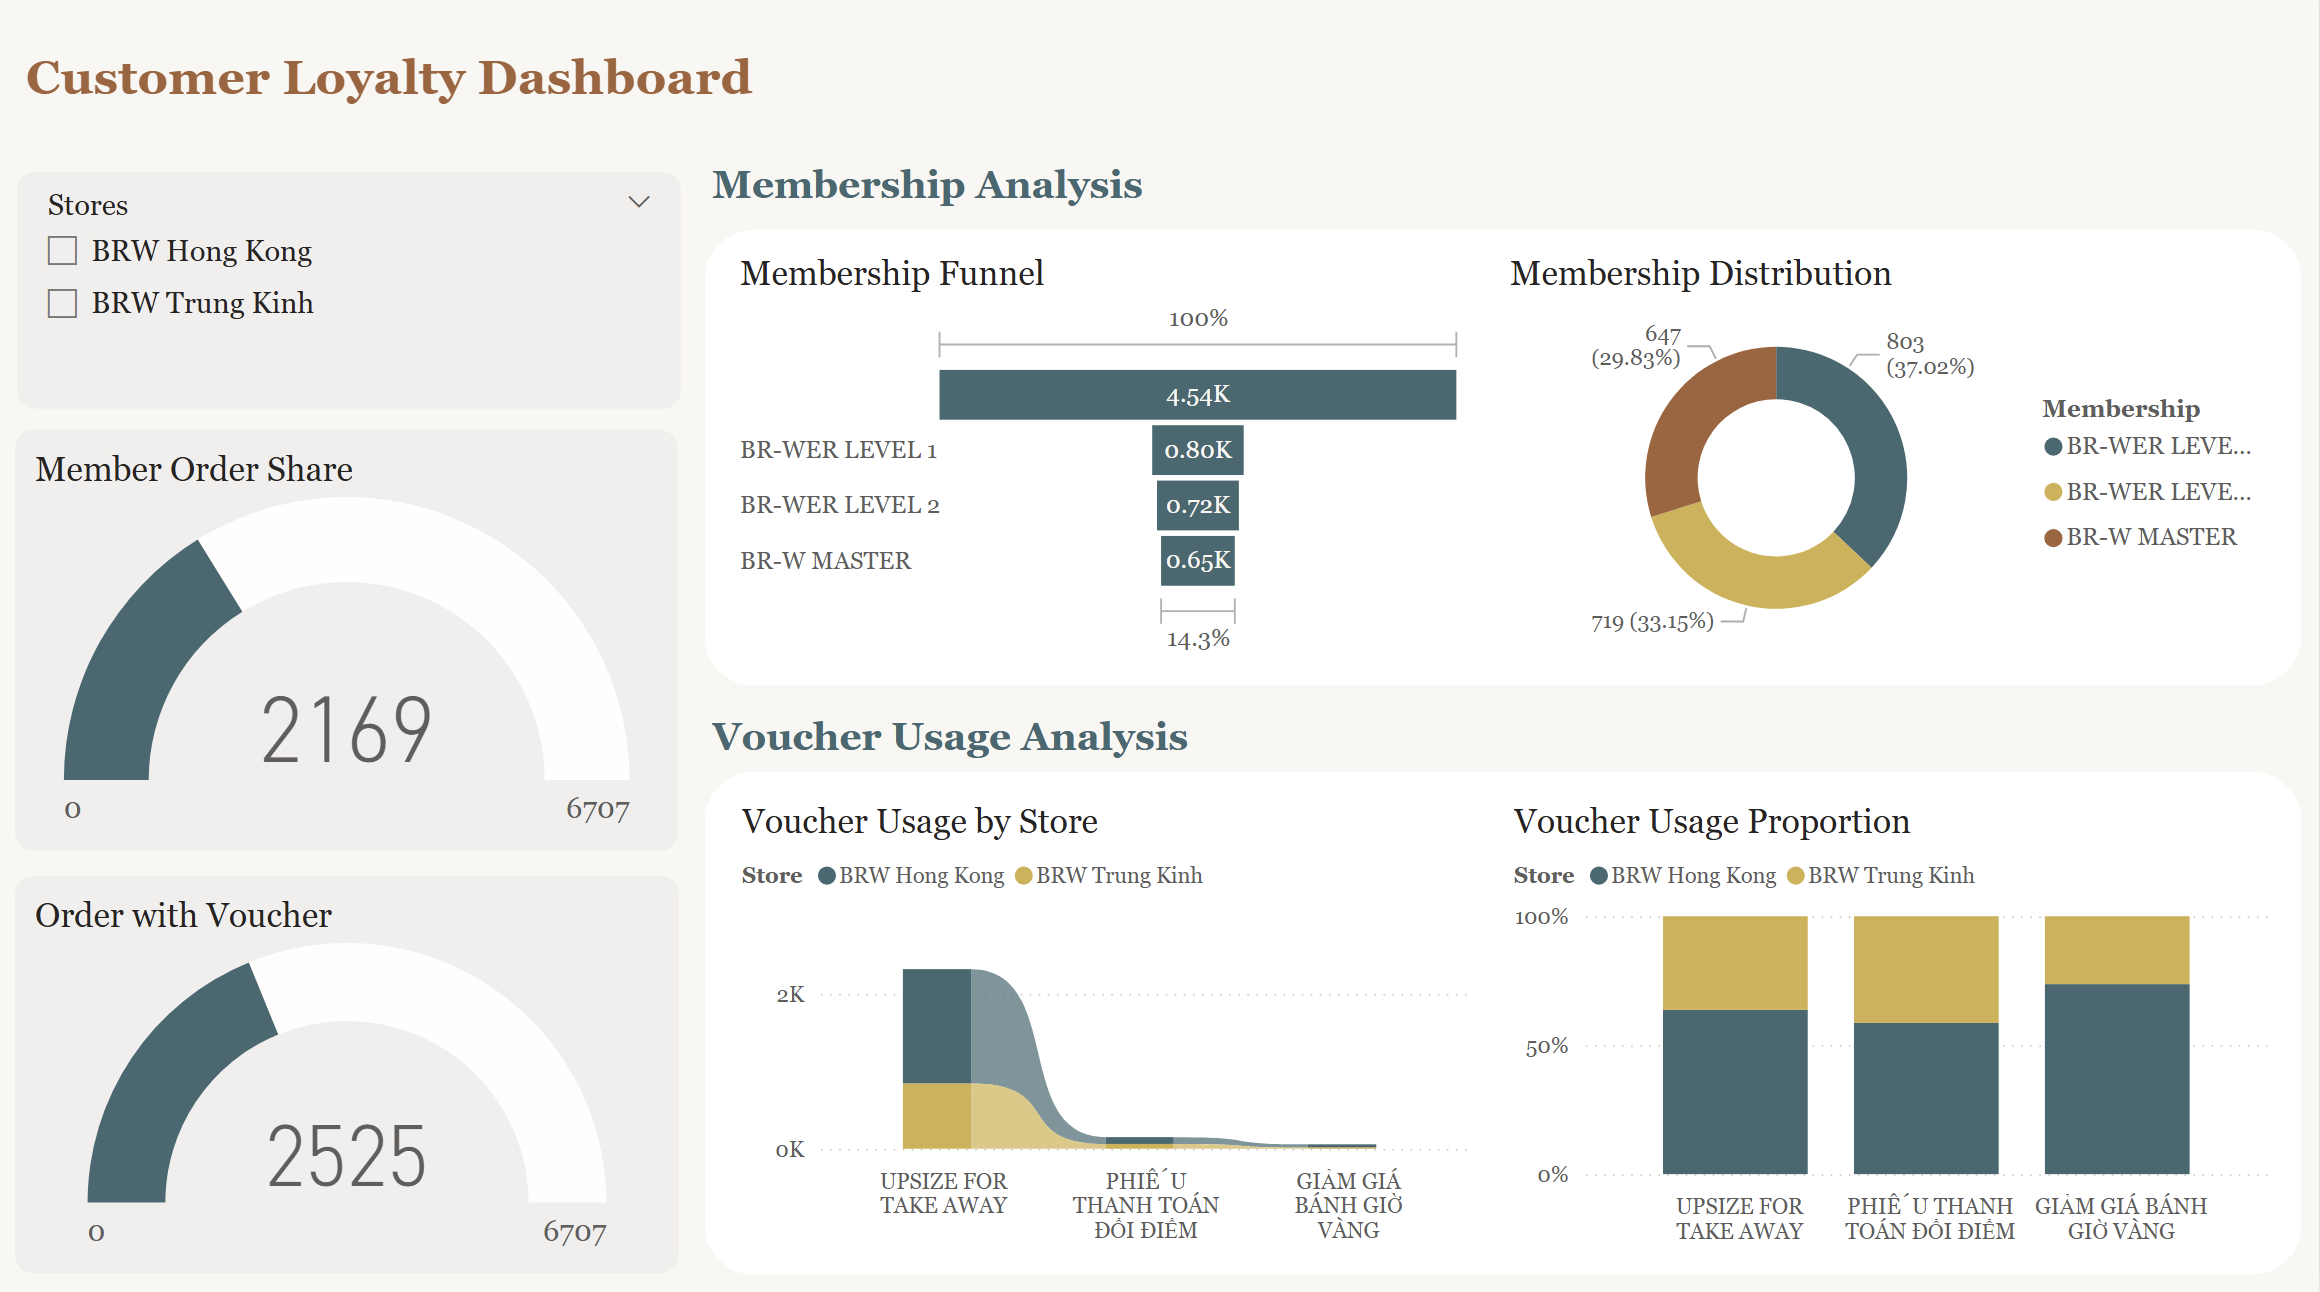

Layout of this report page (visuals, bound fields, positions):
{"tool":"powerbi","page":{"name":"Customer analysis","canvas":[1280,720],"ordinal":1},"visuals":[{"type":"slicer","fields":{"Values":["store.store_name"]},"box":[11.2,102.3,365.9,130.4],"z":0},{"type":"shape","box":[390,433,880,277],"z":0,"group":"g2"},{"type":"shape","box":[390,134,880,251],"z":1000,"group":"g1"},{"type":"gauge","title":"Member Order Share","fields":{"Y":["sale_data.Count of extra_data.Membership_Type_Name difference from <Filter>"],"MaxValue":["CountNonNull(sale_data.extra_data.Membership_Type_Name)"]},"box":[10.4,245.3,365.7,231.9],"z":1000},{"type":"textbox","box":[11.1,29.7,818.3,63.1],"z":2000},{"type":"funnel","title":"Membership Funnel","fields":{"Category":["sale_data.extra_data.Membership_Type_Name"],"Y":["CountNonNull(sale_data.total_amount)"]},"box":[404.7,147.3,409.9,225.8],"z":2000,"group":"g1"},{"type":"gauge","title":"Order with Voucher","fields":{"MaxValue":["CountNonNull(sale_data.voucher_name)"],"Y":["sale_data.Count of voucher_name difference from <Filter>"]},"box":[10,491,366,219],"z":3000},{"type":"group","id":"g1","title":"Group 1","box":[390,134,880,251],"z":4000},{"type":"donutChart","title":"Membership Distribution","fields":{"Category":["sale_data.extra_data.Membership_Type_Name"],"Y":["CountNonNull(sale_data.extra_data.Membership_Type_Name)"]},"box":[829.3,147.3,430.5,225.8],"z":4000,"group":"g1"},{"type":"group","id":"g2","title":"Group 2","box":[390,433,880,277],"z":5000},{"type":"textbox","box":[389.5,92.2,315.2,41.6],"z":6000},{"type":"textbox","box":[389.5,396.9,386.5,35.7],"z":7000},{"type":"hundredPercentStackedColumnChart","title":"Voucher Usage Proportion","fields":{"Category":["sale_data.voucher_name"],"Y":["CountNonNull(sale_data.voucher_name)"],"Series":["store.store_name"]},"box":[831.5,449.3,429,251.2],"z":8000,"group":"g2"},{"type":"ribbonChart","title":"Voucher Usage by Store","fields":{"Category":["sale_data.voucher_name"],"Y":["CountNonNull(sale_data.voucher_name)"],"Series":["store.store_name"]},"box":[405.4,449.3,411.4,251.2],"z":9000,"group":"g2"}]}

Visuals, with their boxes in screenshot pixels (x1, y1, x2, y2), scaled from the page's 1280x720 canvas onto the 2320x1292 screenshot:
slicer - store.store_name: <region>20, 184, 683, 418</region>
shape: <region>707, 777, 2302, 1274</region>
shape: <region>707, 240, 2302, 691</region>
"Member Order Share" gauge: <region>19, 440, 682, 856</region>
textbox: <region>20, 53, 1503, 167</region>
"Membership Funnel" funnel: <region>734, 264, 1476, 670</region>
"Order with Voucher" gauge: <region>18, 881, 682, 1274</region>
"Group 1" group: <region>707, 240, 2302, 691</region>
"Membership Distribution" donutChart: <region>1503, 264, 2283, 670</region>
"Group 2" group: <region>707, 777, 2302, 1274</region>
textbox: <region>706, 165, 1277, 240</region>
textbox: <region>706, 712, 1406, 776</region>
"Voucher Usage Proportion" hundredPercentStackedColumnChart: <region>1507, 806, 2285, 1257</region>
"Voucher Usage by Store" ribbonChart: <region>735, 806, 1480, 1257</region>
